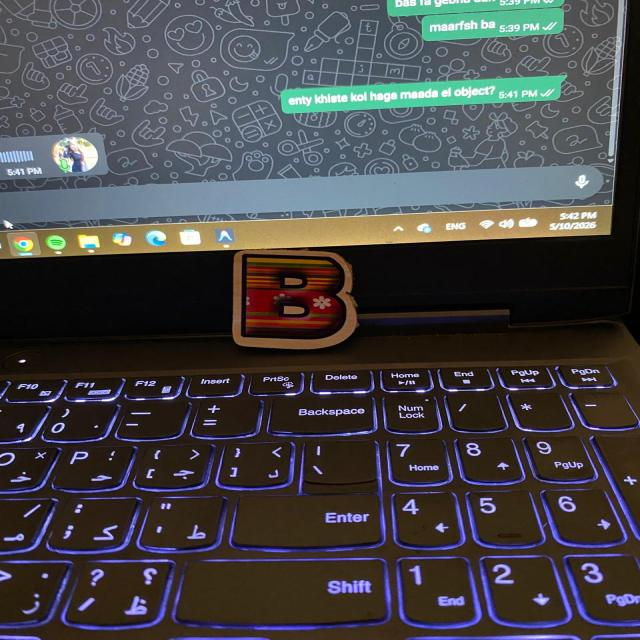B: (233, 251, 357, 349)
